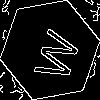W: (25, 25, 82, 85)
